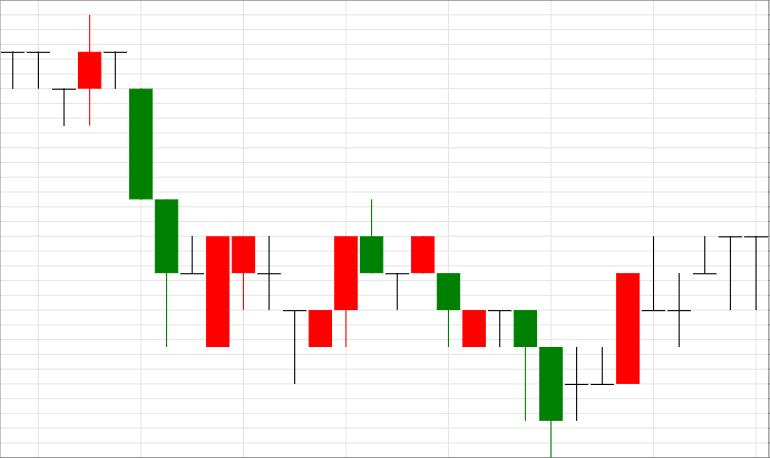hammer_rise: (411, 235, 537, 421)
